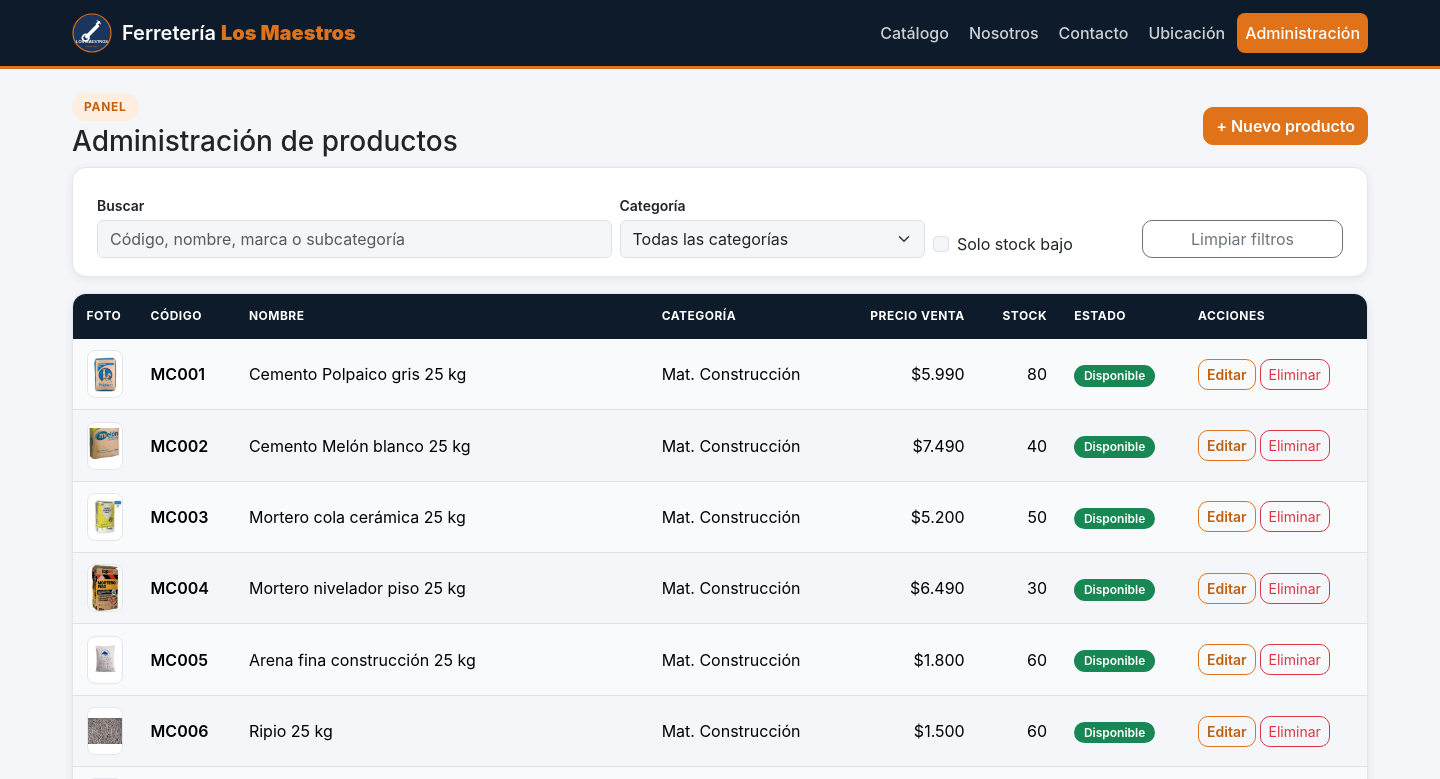
Uso de mocks (vi.spyOn) sobre el repositorio › en Administración, "Limpiar filtros" restaura la tabla completa
Type "cemento" into the search field labelled "Buscar" at [354, 239], box [97,220,612,258]
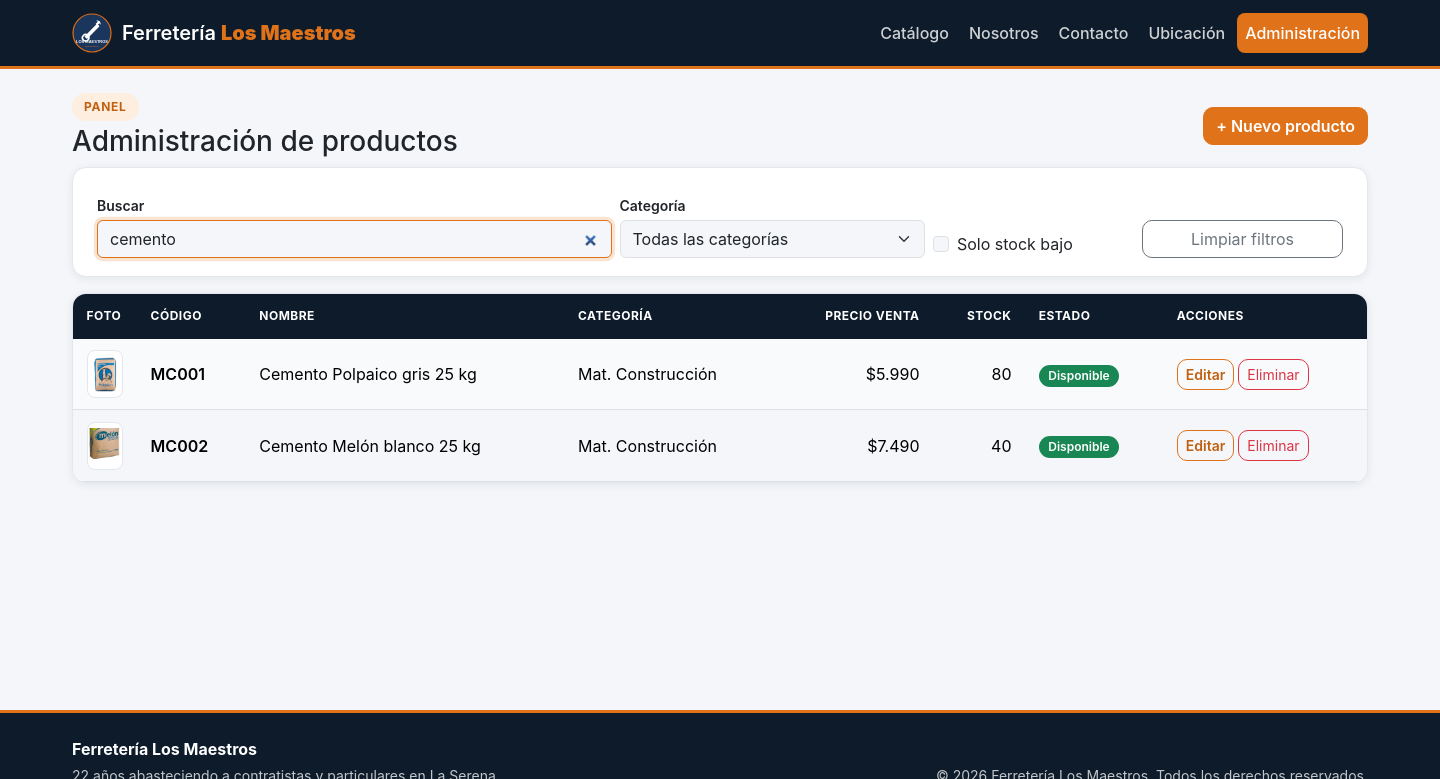
Check: the number of rows is 3, box [73,294,1367,339]; [73,339,1367,410]; [73,410,1367,481]
Click the button "Limpiar filtros" at [1242, 239], box [1142,220,1343,258]
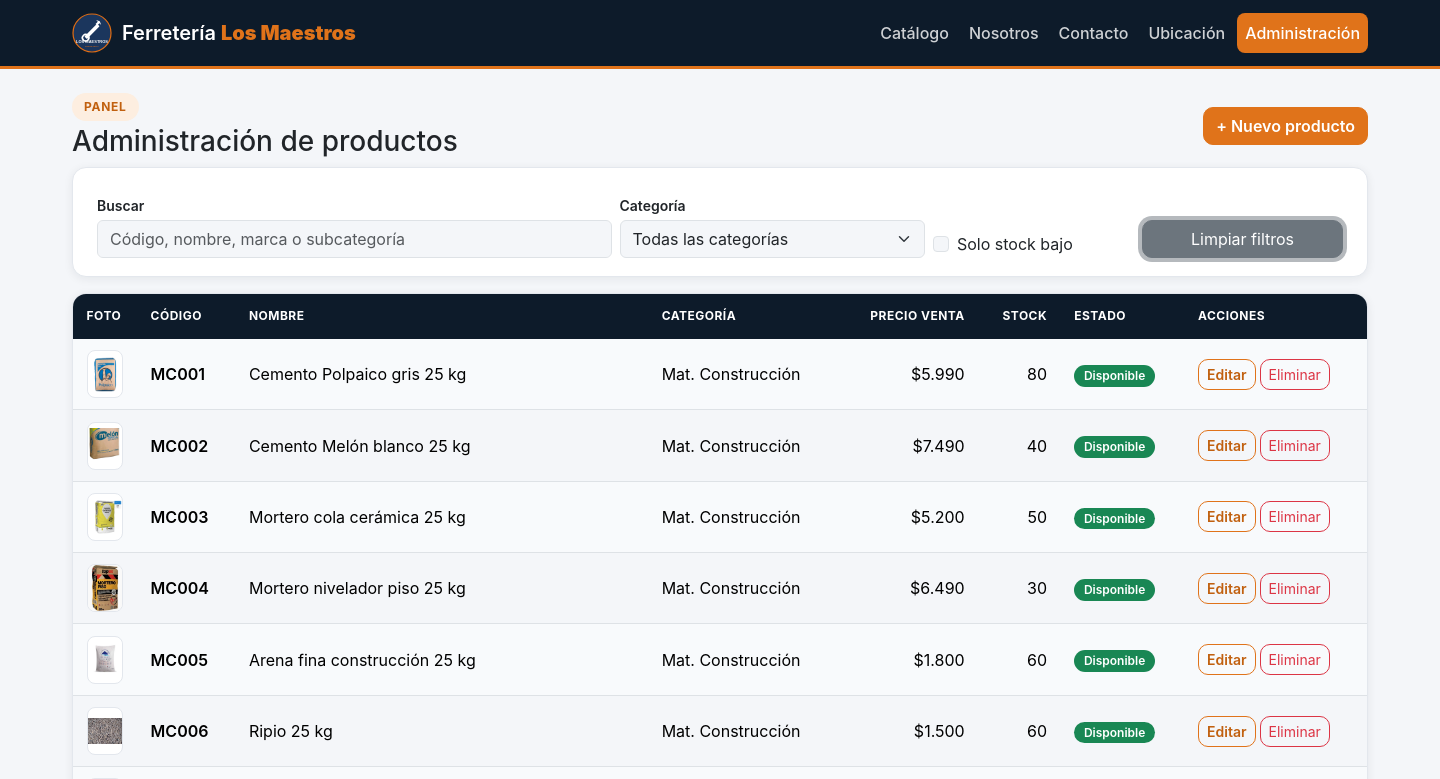
Check: the number of rows is 86
